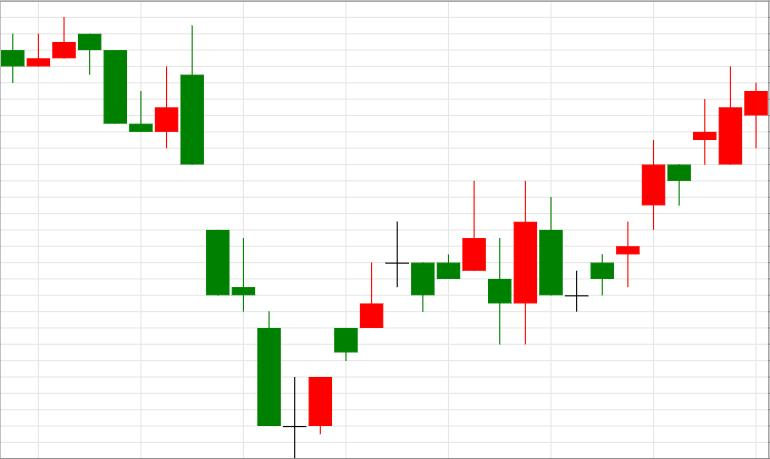morning_star_rise: (181, 26, 332, 459)
shooting_star_fall: (283, 262, 383, 458)
